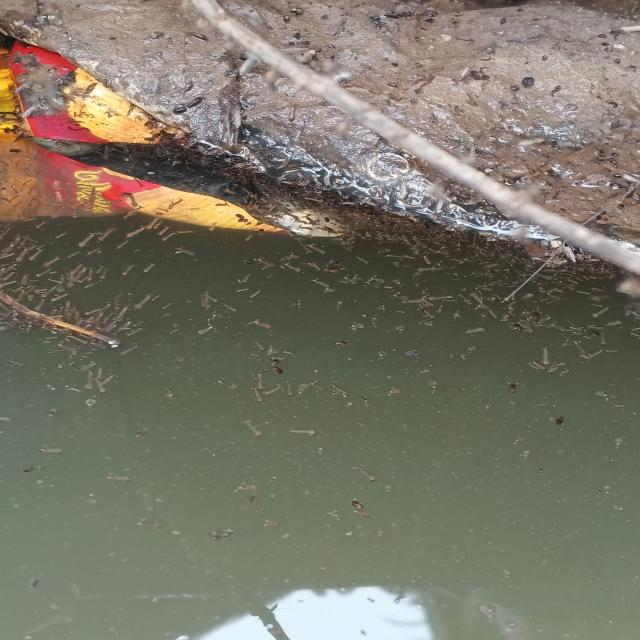Breeding Place: (6, 152, 640, 640)
Mosquito Swarm: (1, 180, 622, 411)
